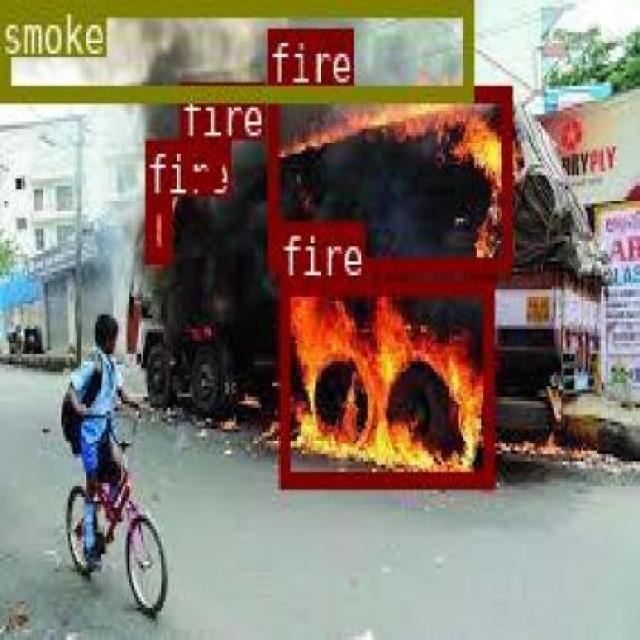Fire: (268, 83, 510, 271), (277, 276, 492, 486)
Smoke: (0, 0, 472, 100)
